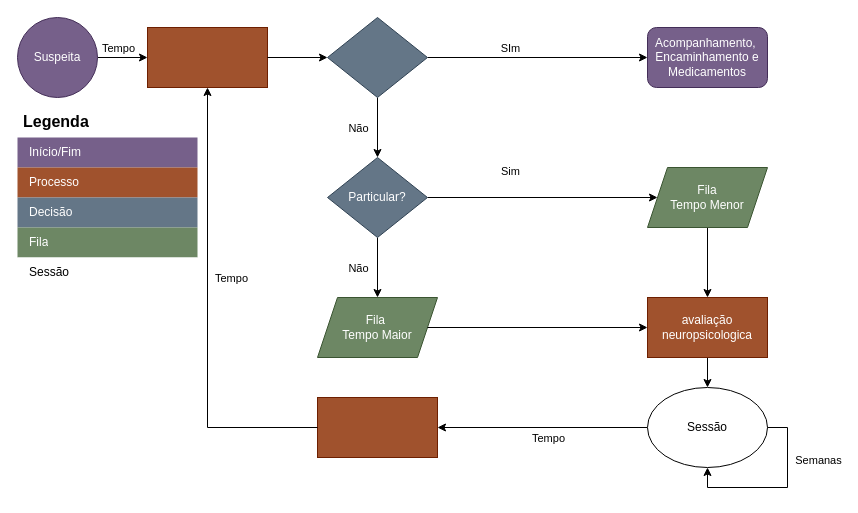
Some shapes in this 858 by 513 pixel diagram are drawn without their labels. The box of each missing label's shape, as (x1, y1, x2, y2) in pixels:
Consulta Médica: (146, 26, 268, 88)
Diagnostico: (316, 396, 438, 458)
Fez avaliação?: (326, 16, 428, 98)
